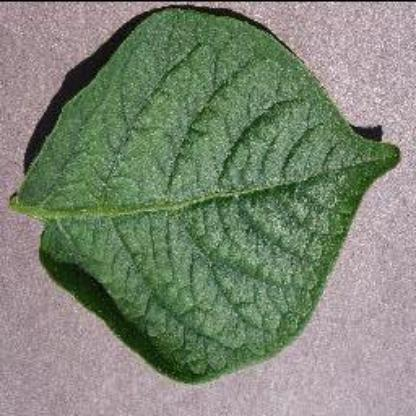Healthy-plant: (10, 3, 402, 383)
